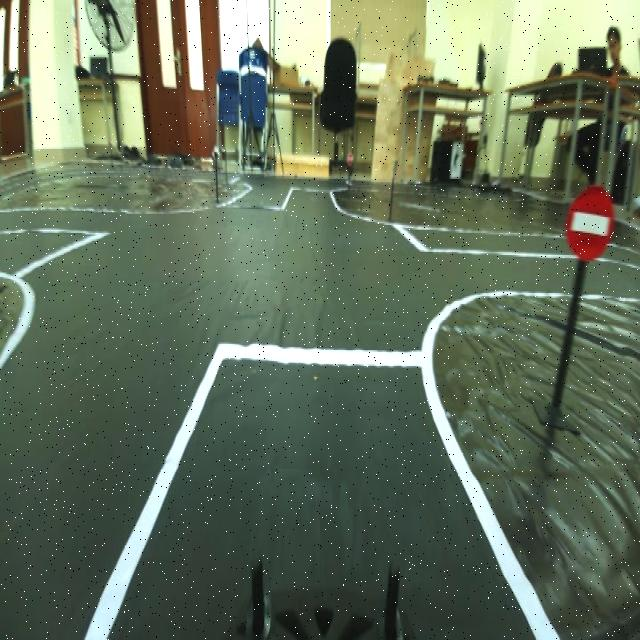no_entry: (564, 181, 618, 277)
